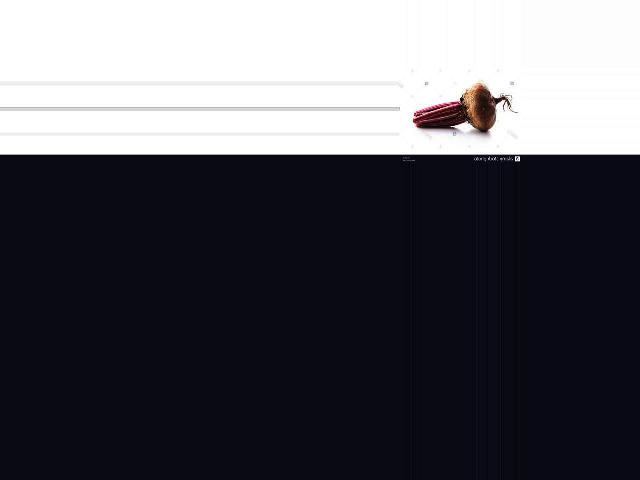beet: (412, 83, 517, 131)
